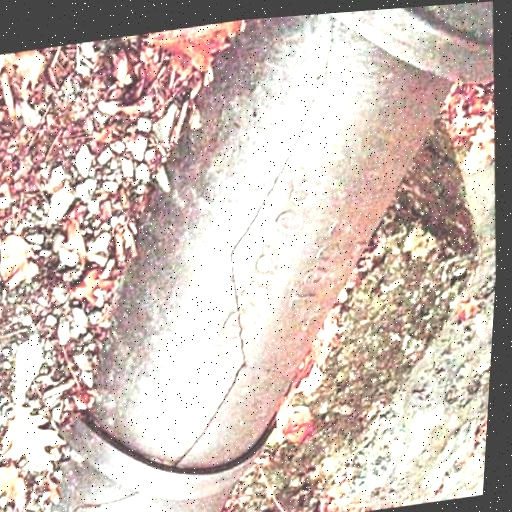crack: (0, 262, 287, 512), (107, 174, 340, 325)
